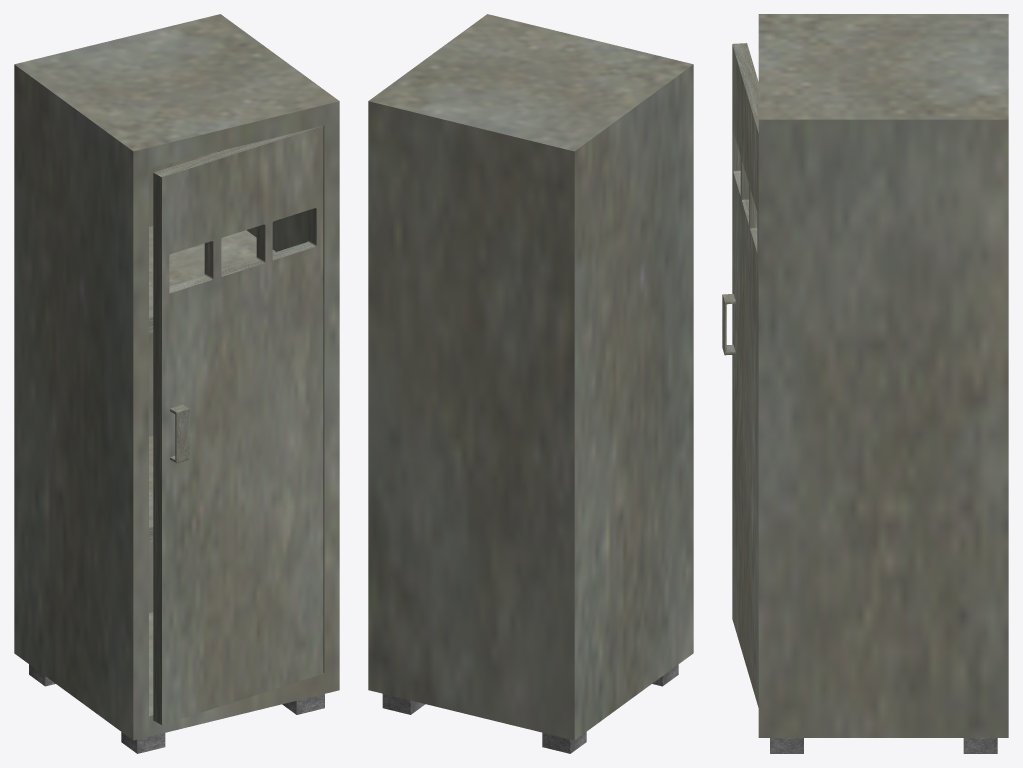
The model's file is Normal Locker.glb.
3 renders of one model, left to right at view 1: azimuth 30°, elevation 25°; view 2: azimuth 150°, elevation 25°; view 3: azimuth 270°, elevation 25°, orthographic. The views are drawn at different scales.
Visible parts, largest first — view 1: Cube, Cube.006, Cube.008, Cube.009, Cube.002; view 2: Cube, Cube.003, Cube.004; view 3: Cube, Cube.006, Cube.004, Cube.001.
Boxes of the visible parts, x1,y1,x2,y2 form: Cube: (14,14,339,740); Cube.006: (153,126,323,724); Cube.008: (149,226,275,333); Cube.009: (170,404,189,463); Cube.002: (121,732,165,753); Cube: (368,14,693,740); Cube.003: (542,732,586,753); Cube.004: (382,694,425,714); Cube: (758,14,1008,737); Cube.006: (732,43,758,707); Cube.004: (963,738,997,753); Cube.001: (770,738,803,753).
Bounding box in the file's own units: 3.15 × 8.89 × 3.61.
3 materials, 3 textured.
